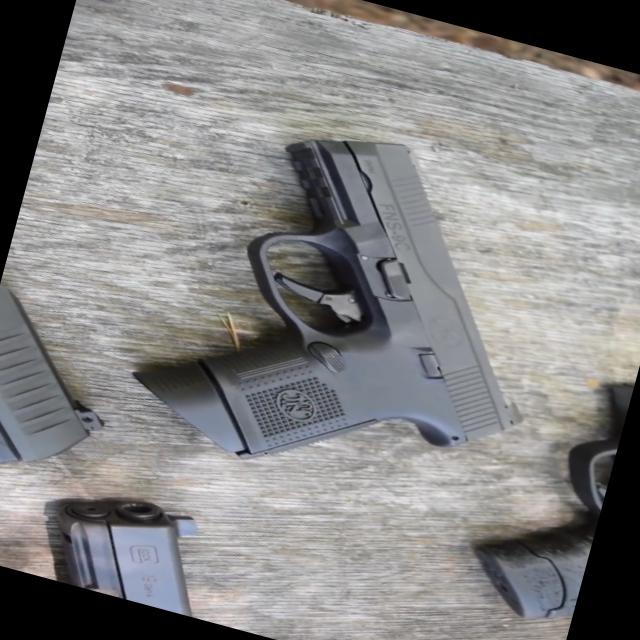handgun: (121, 93, 584, 549), (28, 477, 280, 632)
